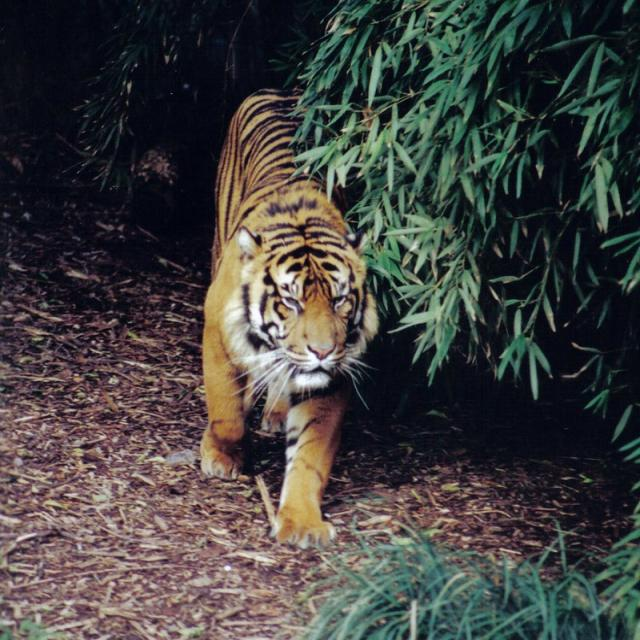Tiger: (194, 81, 381, 550)
